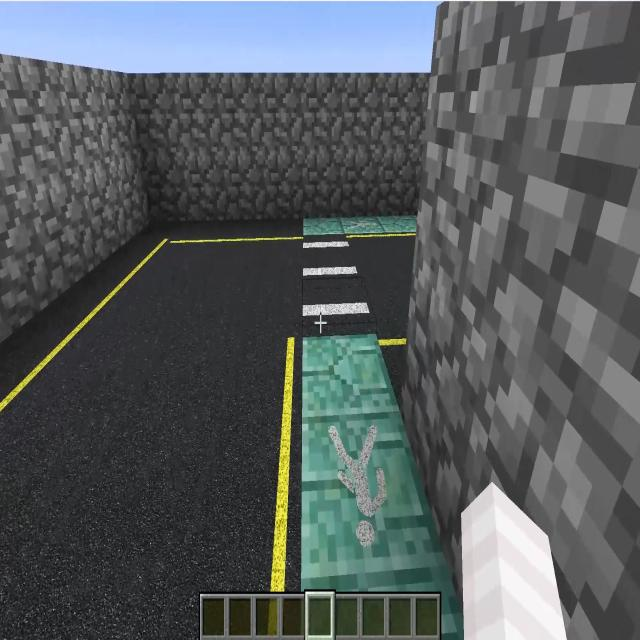crosswalk: (302, 238, 375, 335)
road: (0, 223, 300, 639), (350, 239, 414, 390)
sidewalk: (301, 334, 461, 639), (303, 216, 416, 236)
